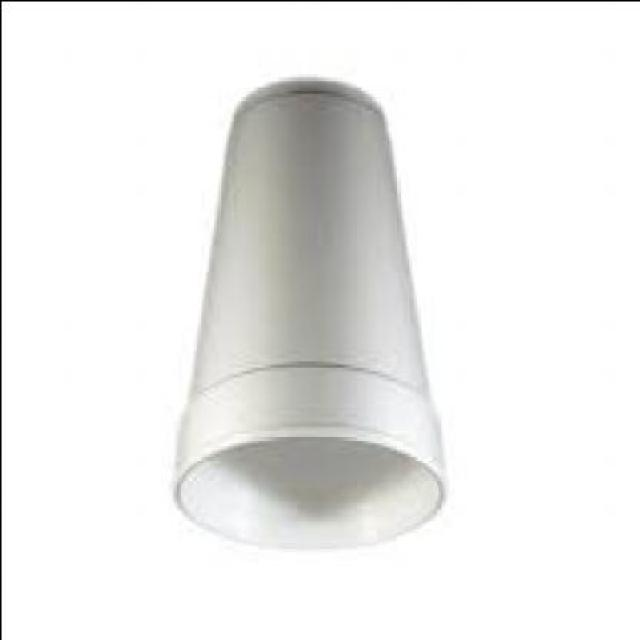PAPER: (170, 79, 442, 547)
